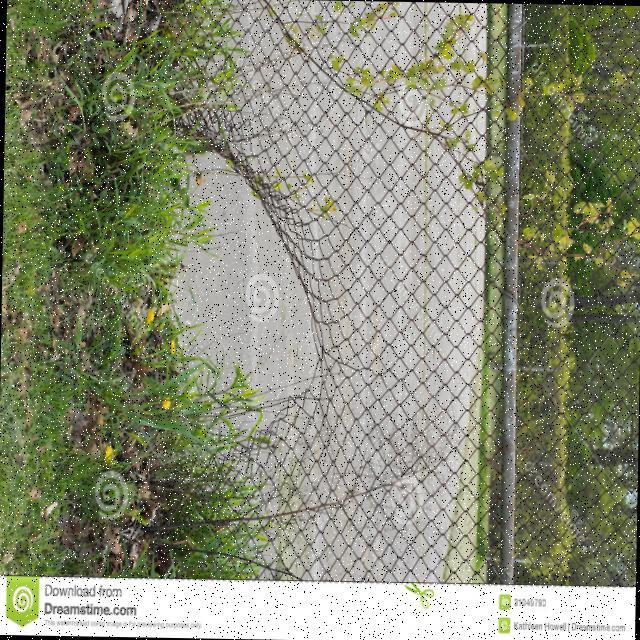fence line: (120, 98, 353, 518)
